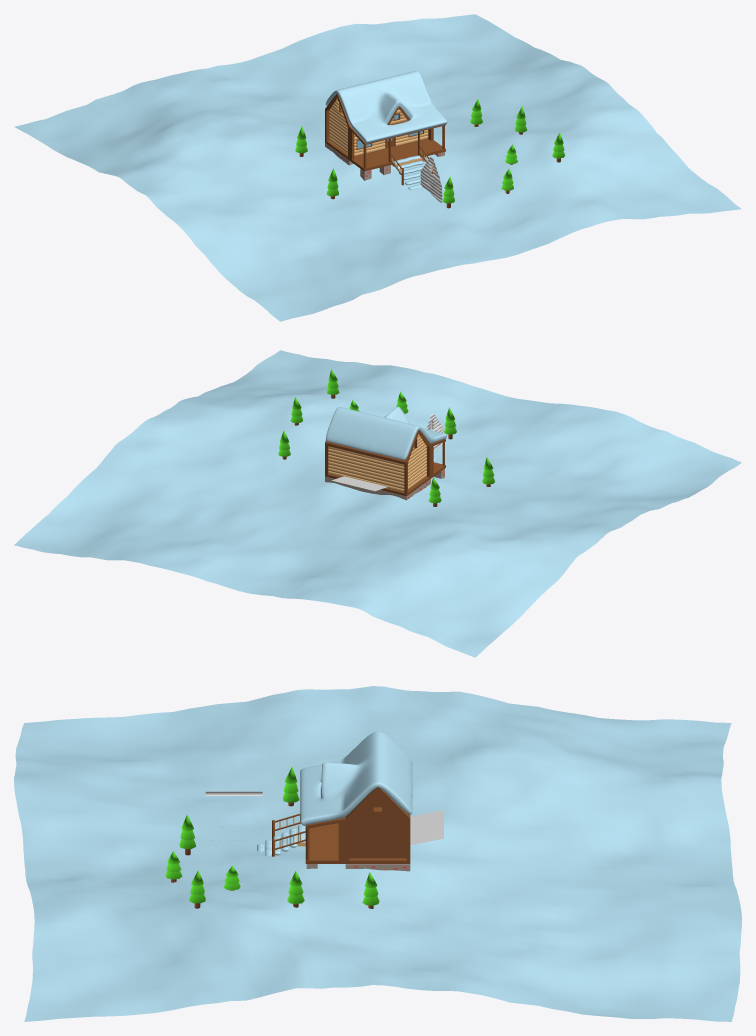
Rendered from nieve.glb.
3 renders of one model, top to bottom at view 1: azimuth 30°, elevation 25°; view 2: azimuth 150°, elevation 25°; view 3: azimuth 270°, elevation 25°, orthographic. The views are drawn at different scales.
Visible parts, largest first — view 1: Plane.001, Cube.025, Cube, Circle.013, Circle.005, Circle.010; view 2: Plane.001, Cube.025, Circle.012, Cube, Circle.013; view 3: Plane.001, Cube.025, Cube, Plane, Cube.030.
Part boxes in pixels (x1,y1,x2,y2): Plane.001: (14,14,741,321); Cube.025: (325,71,447,143); Cube: (325,93,445,171); Circle.013: (329,98,347,153); Circle.005: (420,157,442,202); Circle.010: (354,130,428,156); Plane.001: (14,350,741,657); Cube.025: (326,406,447,459); Circle.012: (328,446,404,492); Cube: (325,429,445,496); Circle.013: (408,434,426,489); Plane.001: (14,686,741,1021); Cube.025: (300,731,412,825); Cube: (305,787,410,863); Plane: (410,810,443,845); Cube.030: (257,824,305,855).
Bounding box in the file's own units: 201 × 36.36 × 204.
